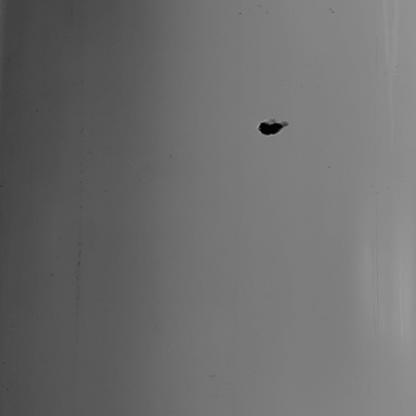kongdong: (253, 112, 297, 138)
